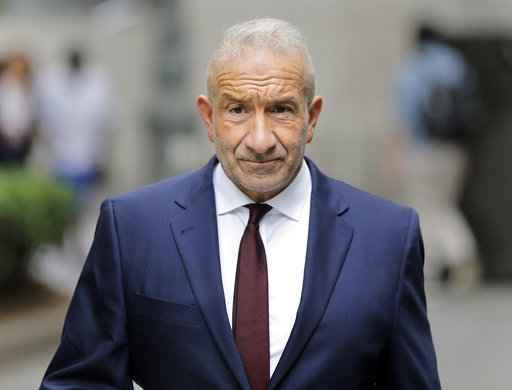Sober: (214, 59, 303, 186)
